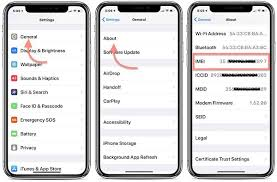iphone10: (1, 1, 93, 177), (93, 2, 185, 178), (185, 1, 273, 177)
